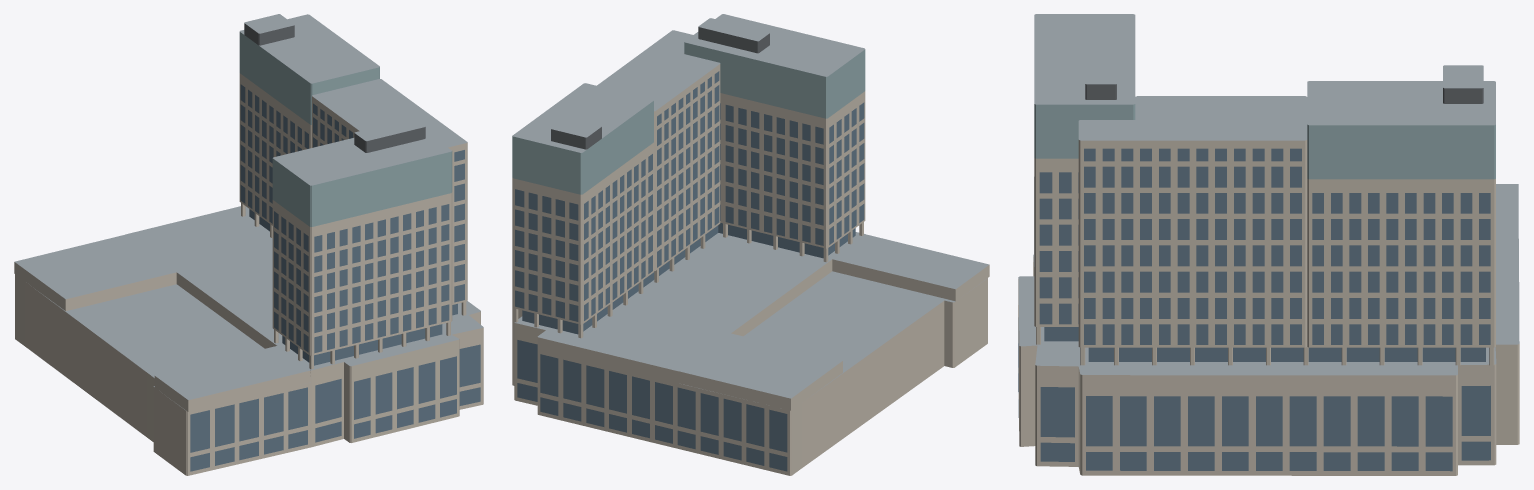
File: nash-omni-hotel.glb
3 views of the same model, side by side, from view 1: azimuth 30°, elevation 25°; view 2: azimuth 150°, elevation 25°; view 3: azimuth 270°, elevation 25° (orthographic). The views are drawn at different scales.
Visible parts, largest first — view 1: Omni Nashville Hotel; view 2: Omni Nashville Hotel; view 3: Omni Nashville Hotel.
Part boxes in pixels (left/top/right/bottom): Omni Nashville Hotel: left=14, top=14, right=483, bottom=475; Omni Nashville Hotel: left=512, top=14, right=989, bottom=475; Omni Nashville Hotel: left=1018, top=14, right=1519, bottom=475.
Bounding box in the file's own units: 104 × 87 × 111.
